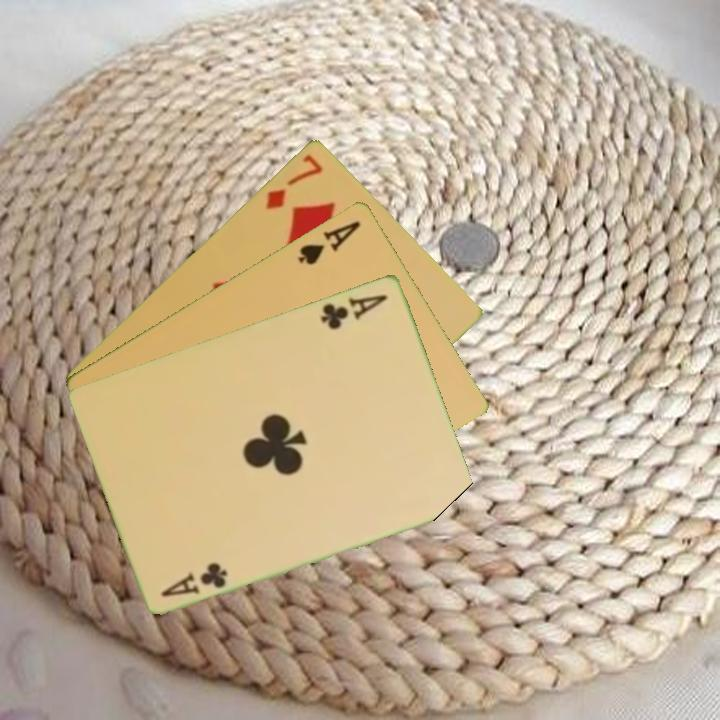7d: (262, 150, 326, 212)
Ac: (317, 290, 391, 332), (157, 558, 231, 600)
As: (294, 216, 364, 268)
